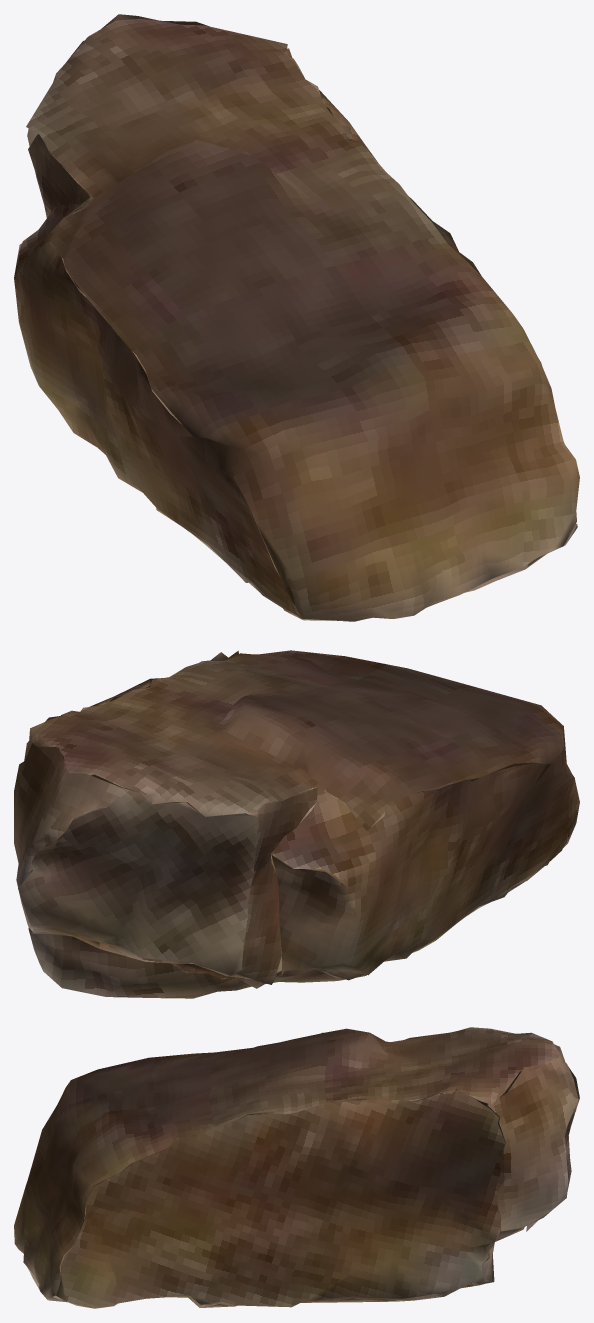
The model's file is rock_07.glb.
3 renders of one model, top to bottom at view 1: azimuth 30°, elevation 25°; view 2: azimuth 150°, elevation 25°; view 3: azimuth 270°, elevation 25°, orthographic. The views are drawn at different scales.
Parts seen in each view (by area): view 1: rock_07; view 2: rock_07; view 3: rock_07.
Boxes of the visible parts, x1,y1,x2,y2 form: rock_07: [14, 14, 579, 621]; rock_07: [14, 650, 579, 998]; rock_07: [14, 1027, 579, 1308].
Bounding box in the file's own units: 0.1697 × 0.1432 × 0.321.
Materials: 1 (1 with a texture image).
